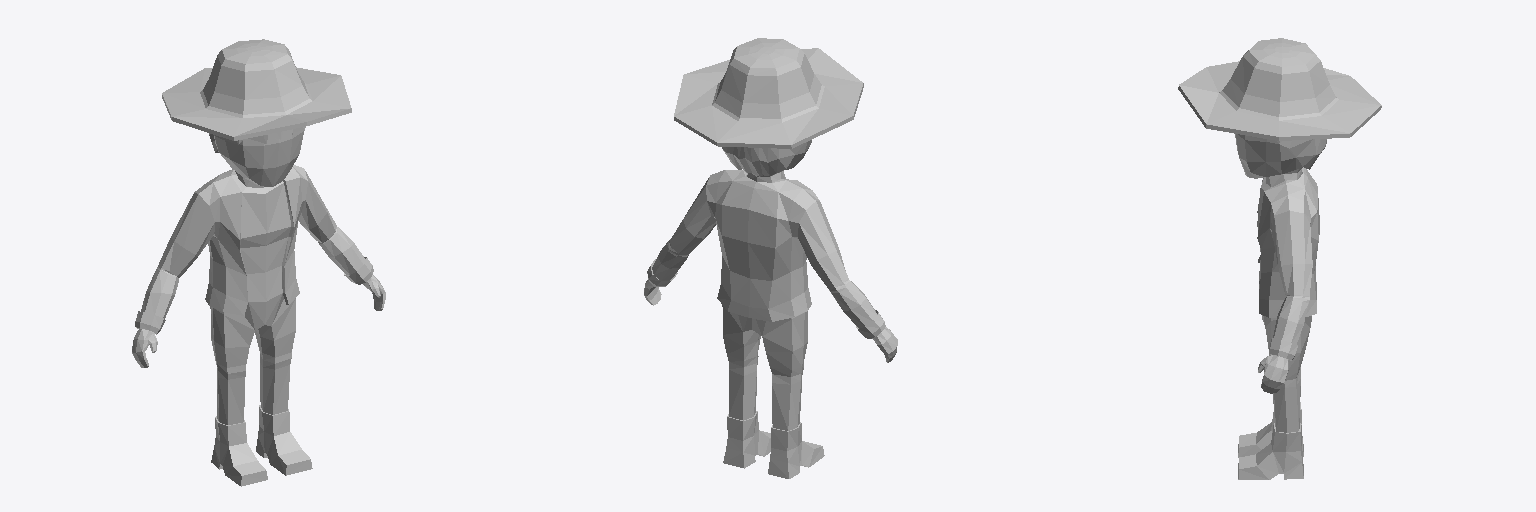
The model's file is farmer.blend.obj.
The picture shows the model from 3 angles: view 1: azimuth 30°, elevation 25°; view 2: azimuth 150°, elevation 25°; view 3: azimuth 270°, elevation 25°; orthographic projection.
Parts seen in each view (by area): view 1: Dude_Cube.001; view 2: Dude_Cube.001; view 3: Dude_Cube.001.
Part boxes in pixels (x1,y1,x2,y2): Dude_Cube.001: (132,39,385,486); Dude_Cube.001: (644,38,897,478); Dude_Cube.001: (1178,38,1381,479).
Size of the model in its own units: 962 by 1522 by 679.